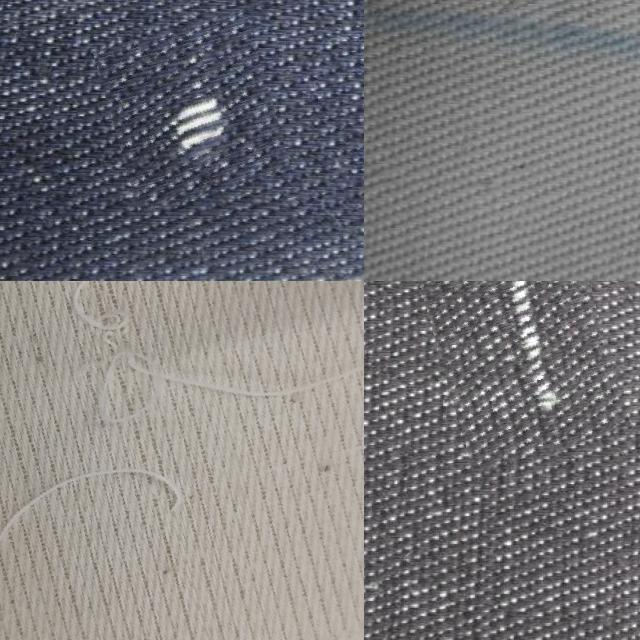stains: (0, 281, 364, 640), (376, 281, 600, 466), (102, 16, 281, 204)
